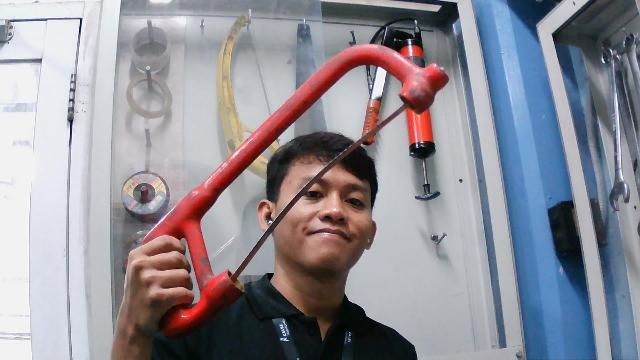gergaji_besi: (133, 41, 452, 340)
